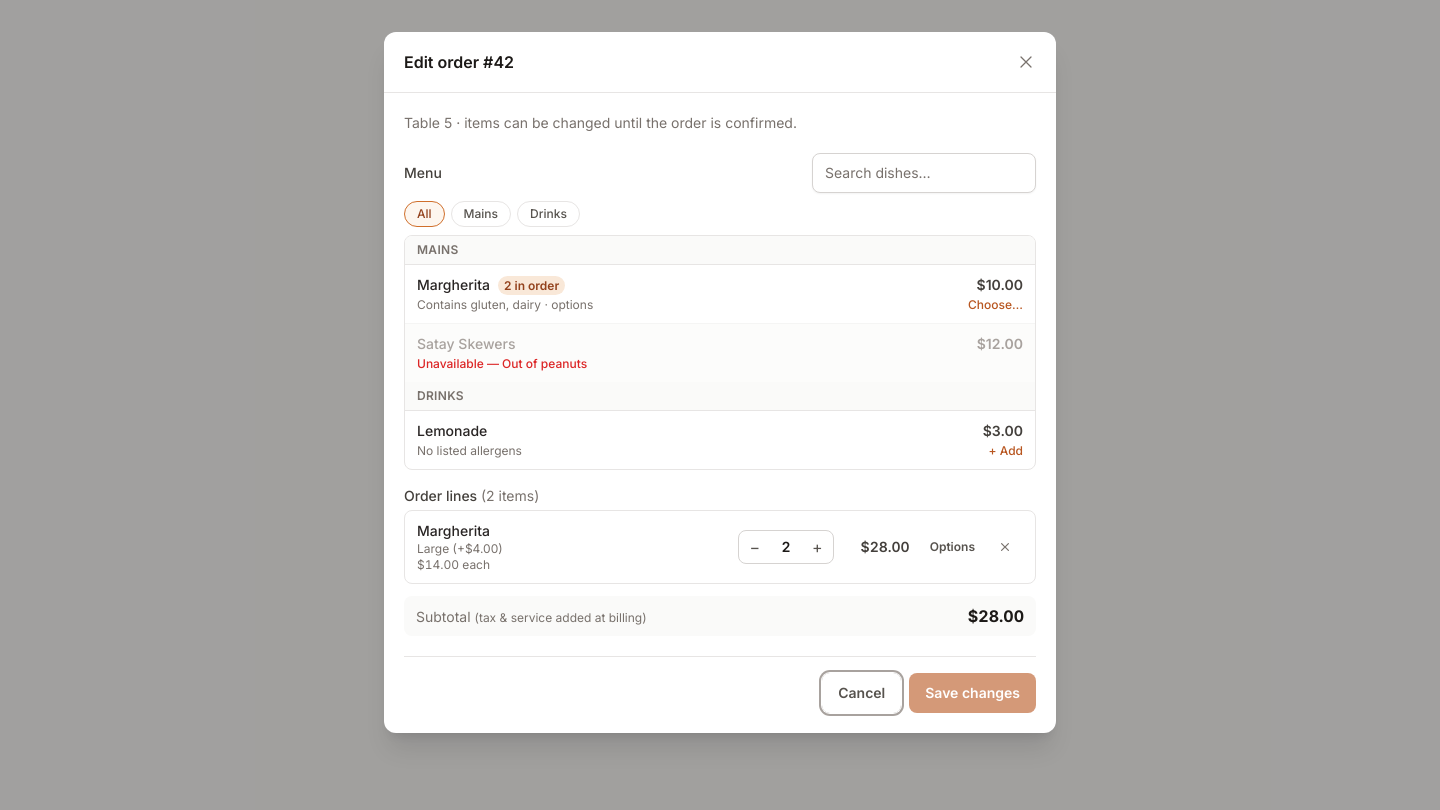
Test: EditItemsModal › asks before discarding unsaved changes, and keeps editing when told to
Click the button named "Increase quantity of Margherita": point(817, 547) [802, 531, 833, 563]
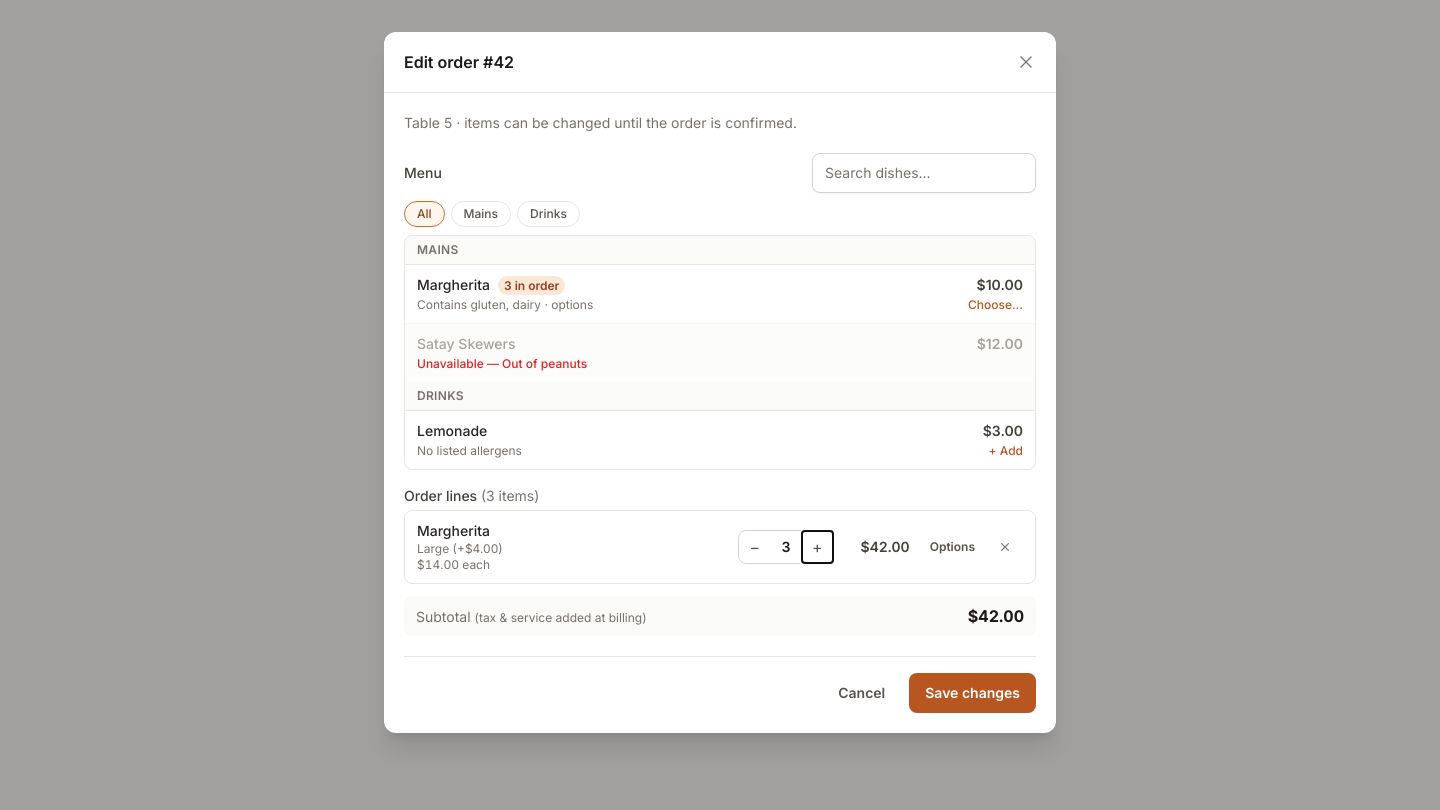
Click the button "Cancel": point(862, 693) [822, 673, 901, 713]
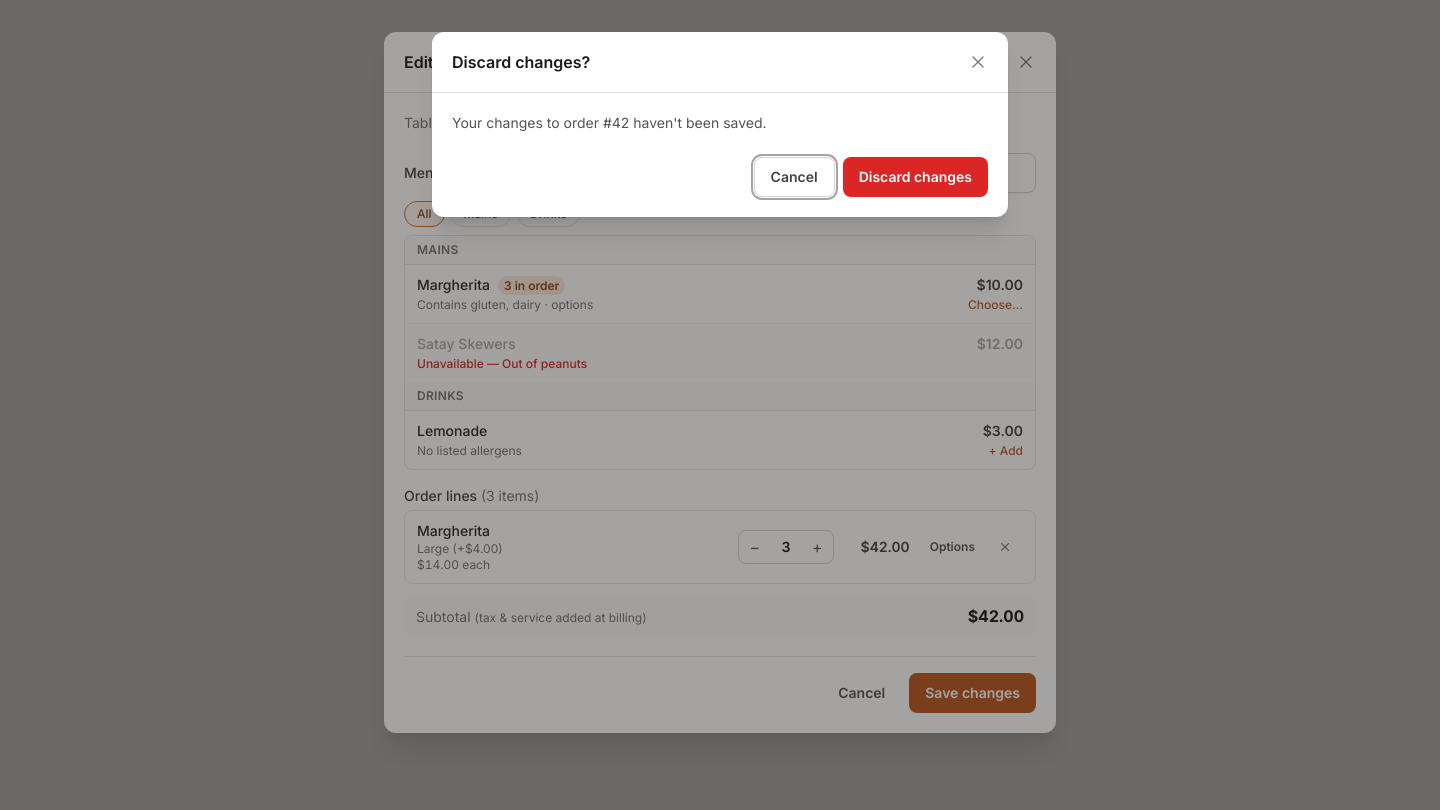
Check: the dialog "Discard changes?" shows "Your changes to order #42 haven't been saved."
Click the button "Cancel": point(794, 177) [754, 157, 835, 197]
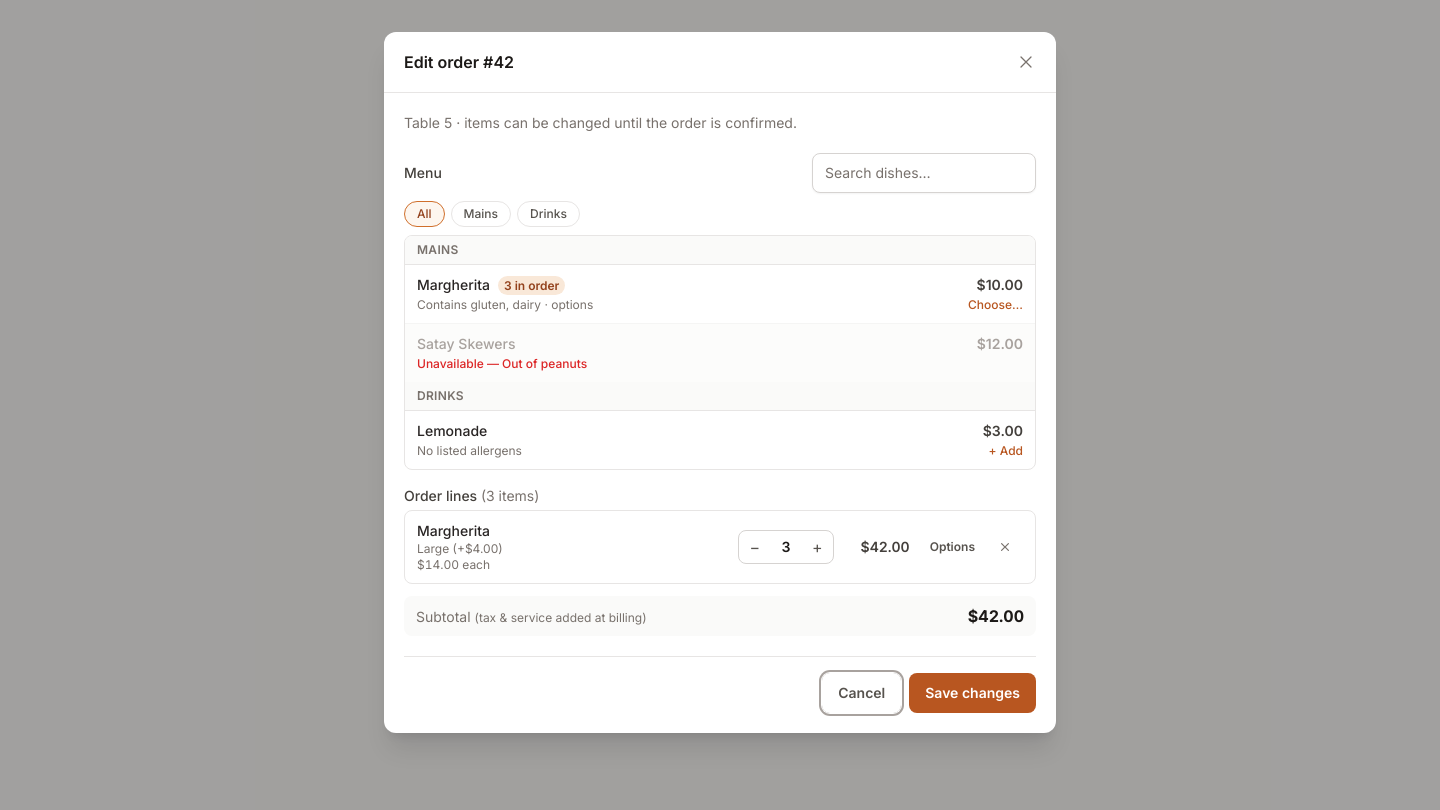
Check: the heading "Discard changes?" is gone
